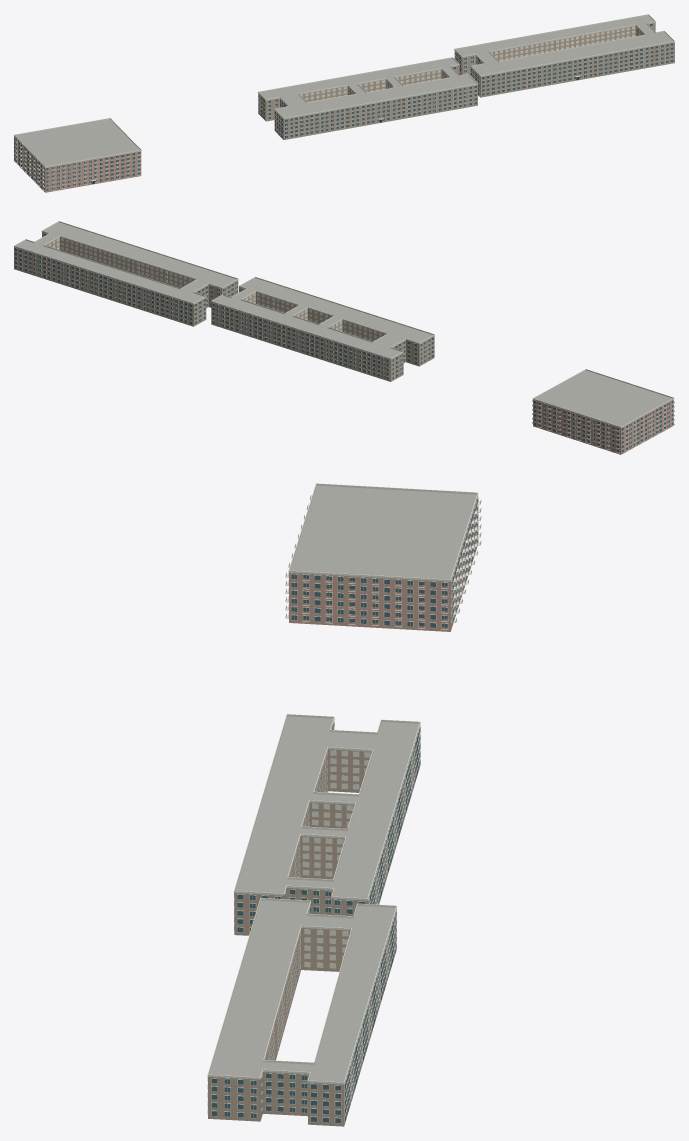
Rendered from chunk-n1-p2.glb.
3 renders of one model, top to bottom at view 1: azimuth 30°, elevation 25°; view 2: azimuth 150°, elevation 25°; view 3: azimuth 270°, elevation 25°, orthographic. The views are drawn at different scales.
Parts seen in each view (by area): view 1: chunk-n1-p2; view 2: chunk-n1-p2; view 3: chunk-n1-p2.
Boxes of the visible parts, x1,y1,x2,y2 form: chunk-n1-p2: (14, 14, 674, 192); chunk-n1-p2: (14, 221, 674, 454); chunk-n1-p2: (207, 483, 481, 1126).
Size of the model in its own units: 517 by 21.1 by 100.
Materials: 6 (2 with a texture image).
